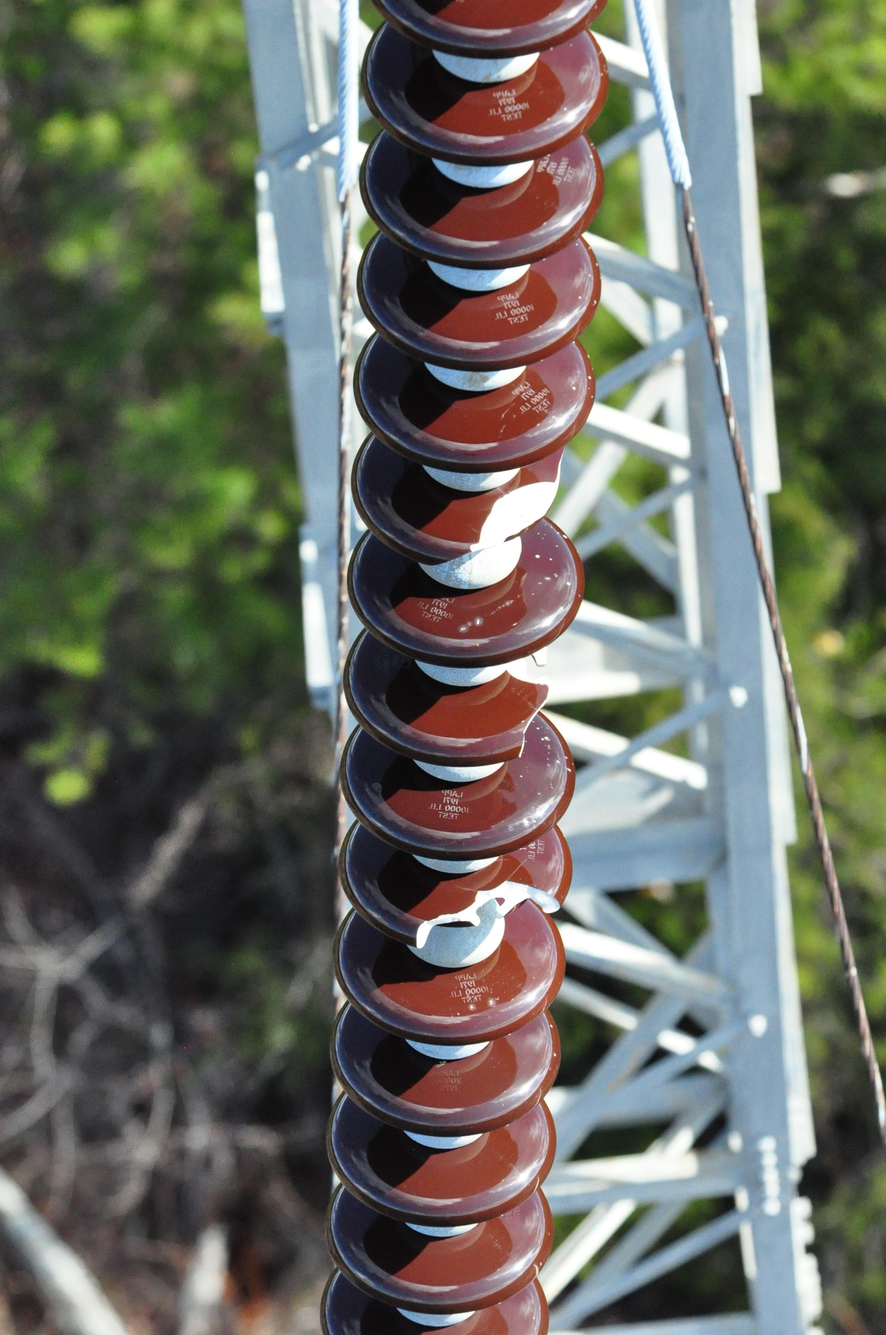damaged: (404, 868, 557, 958), (460, 447, 573, 555), (499, 640, 567, 762)
insulator: (314, 0, 604, 1335)
